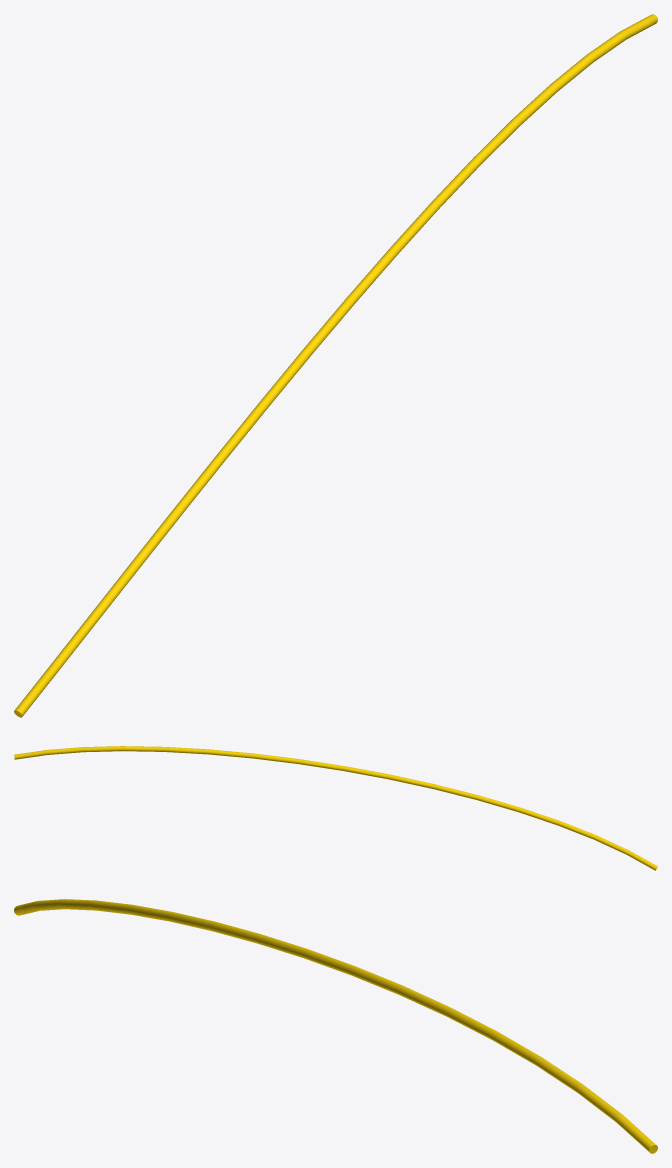
Rendered from Event_421115418_track_35.fbx.
3 views of the same model, one above another, from view 1: azimuth 30°, elevation 25°; view 2: azimuth 150°, elevation 25°; view 3: azimuth 270°, elevation 25° (orthographic). The views are drawn at different scales.
Parts seen in each view (by area): view 1: Model; view 2: Model; view 3: Model.
Boxes of the visible parts, x1,y1,x2,y2 form: Model: (14,14,657,717); Model: (14,746,657,870); Model: (14,899,657,1153).
Bounding box in the file's own units: 4.33 × 1.06 × 2.55.
